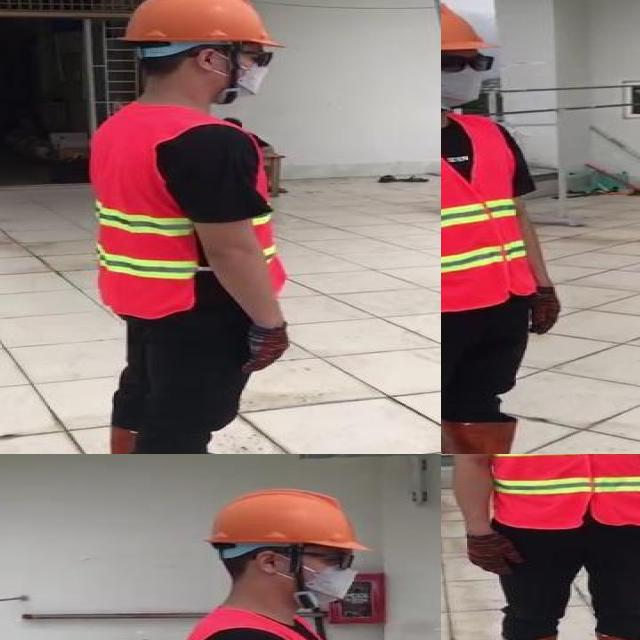boots: (441, 419, 569, 454)
face_mask: (270, 546, 366, 609), (198, 42, 282, 102), (441, 48, 493, 109)
glasses: (441, 47, 502, 77)
hand_glove: (465, 532, 529, 574), (242, 326, 288, 373), (532, 286, 564, 333)
head_helmet: (202, 486, 369, 554), (114, 0, 287, 52), (441, 0, 491, 63)
person: (67, 0, 311, 454), (441, 0, 588, 454), (155, 485, 427, 640), (441, 454, 640, 640)
vest: (89, 101, 288, 318), (441, 118, 530, 309), (479, 454, 640, 526)
